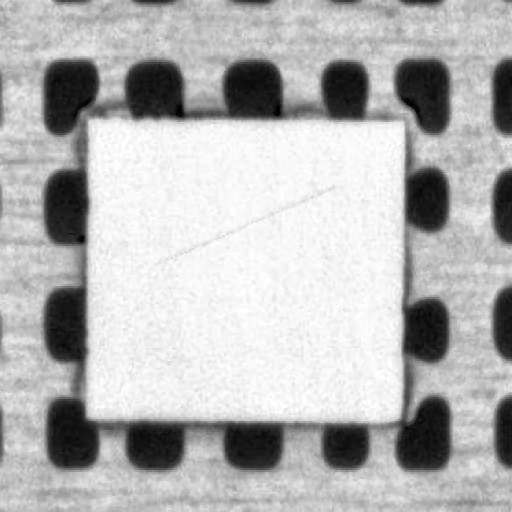DIE_CRACK: (204, 138, 443, 198)
